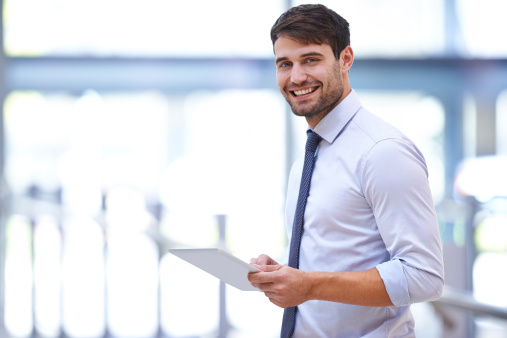em pe: (219, 4, 452, 338)
